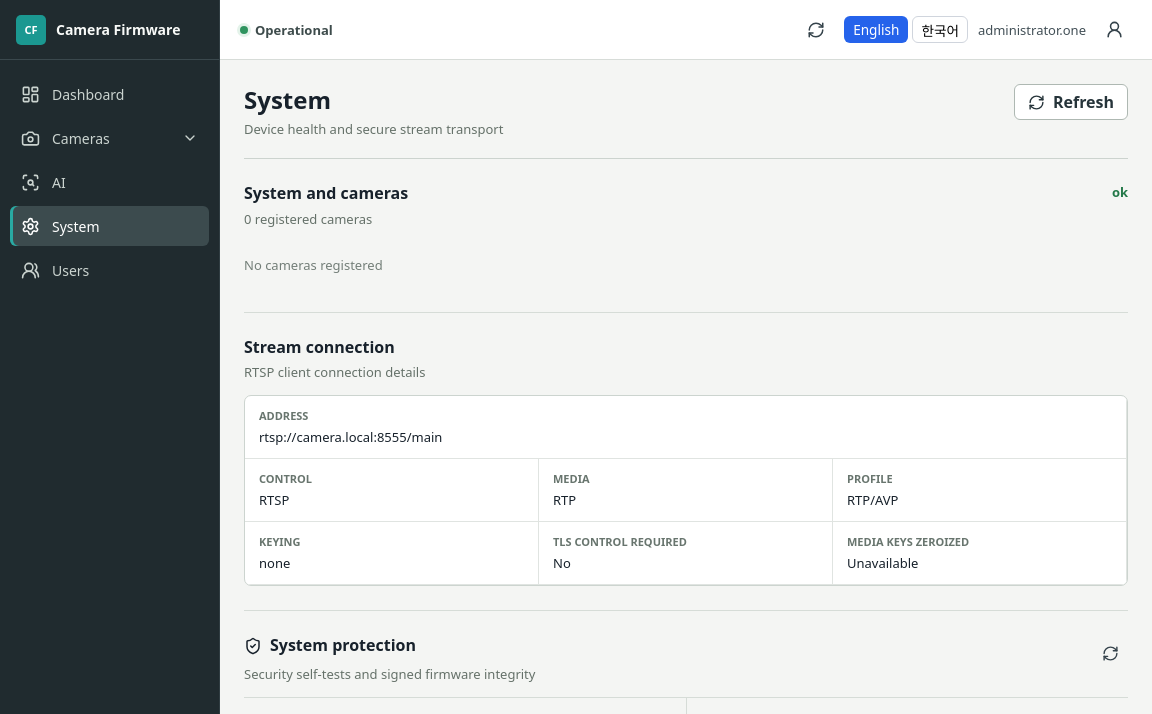
Test: App role-specific route trees › keeps the operational status controller while leaving System
This screenshot has width=1152, height=714.
Click the link "Dashboard": coordinates (73, 94) [21,84,124,104]
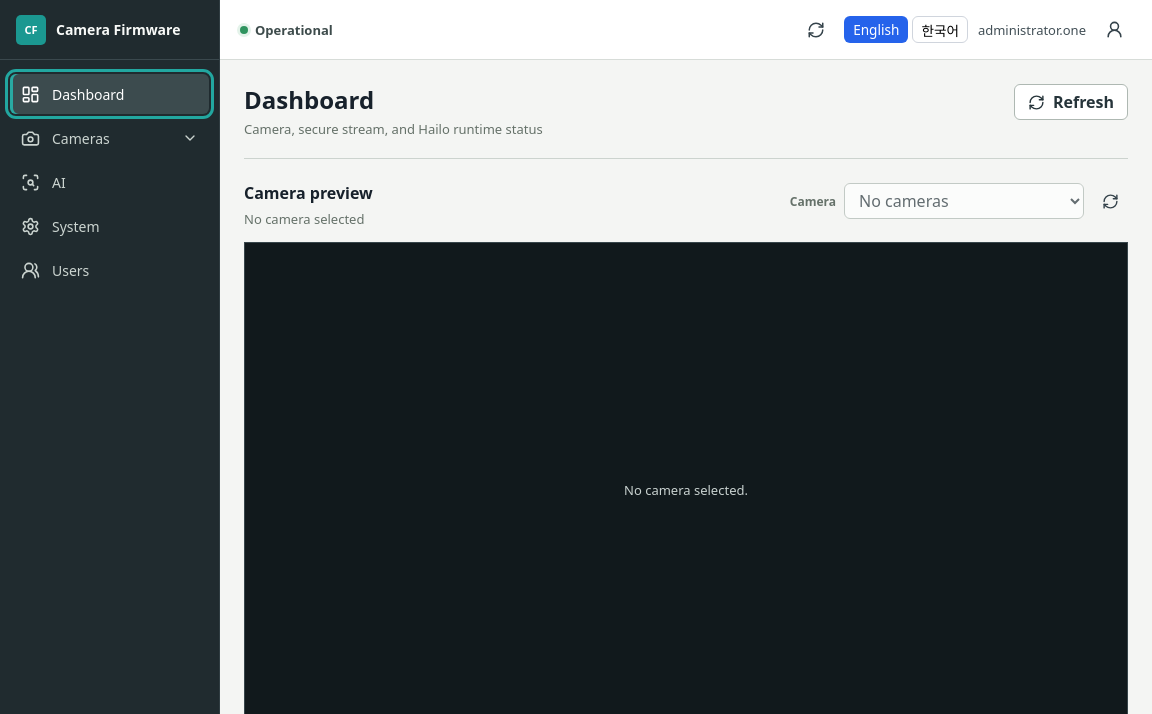
expect the heading "Dashboard" is shown: met, box [244,83,374,116]
